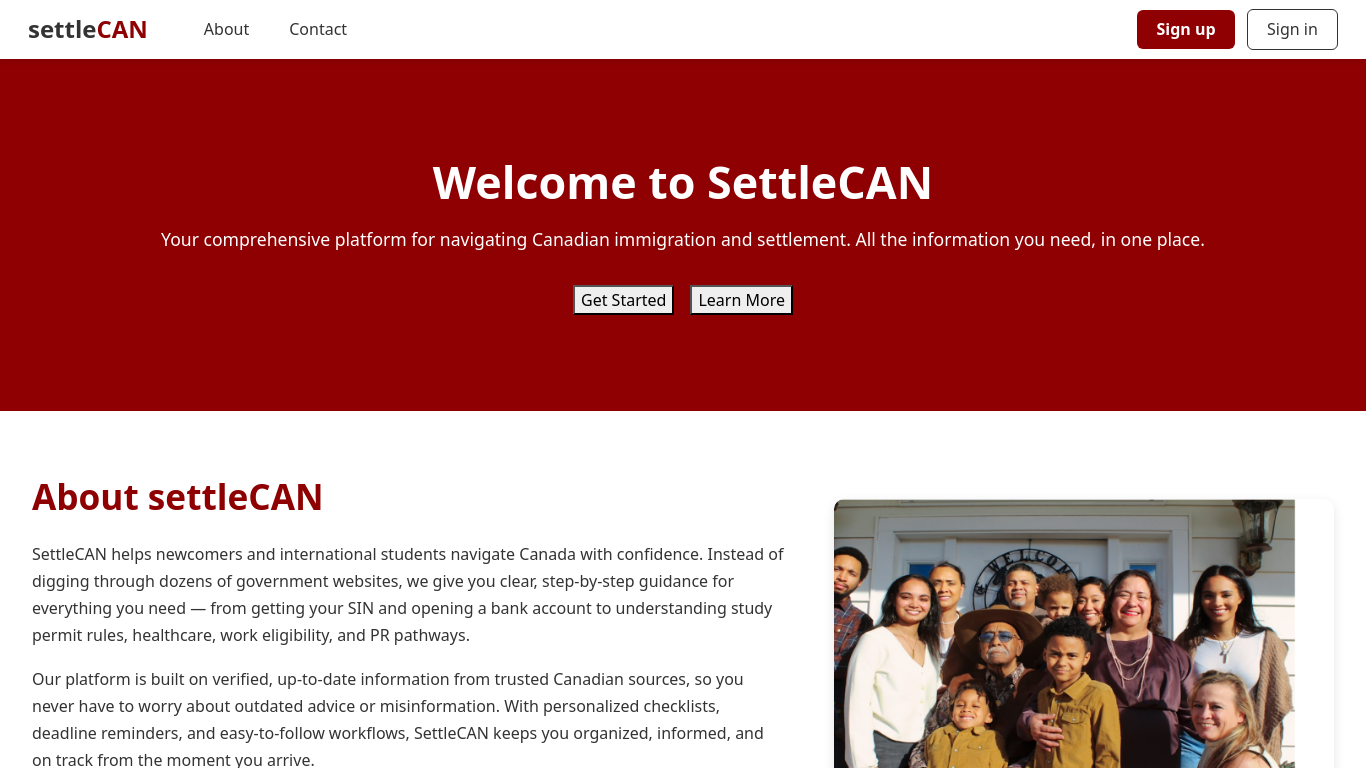
Scenario: E2E Tests › User can see sign-in screen
Click the button with test id "top-navbar-sign-in-btn": (1292, 29) [1247,9,1338,50]
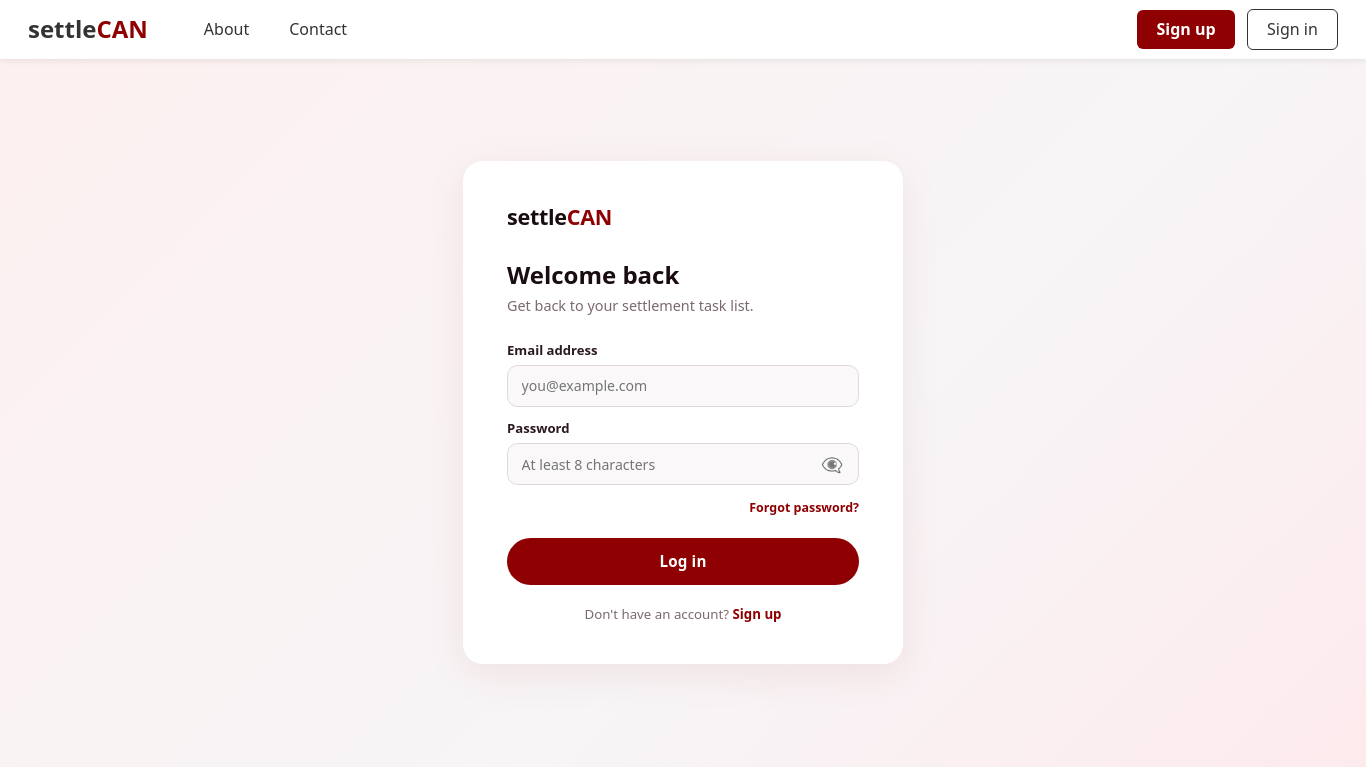
Expected: the element with test id "login" is shown
Expected: the field with test id "login-email-address-input" is shown, [507,365,859,407]
Expected: the password field with test id "login-password-input" is shown, [507,443,859,485]
